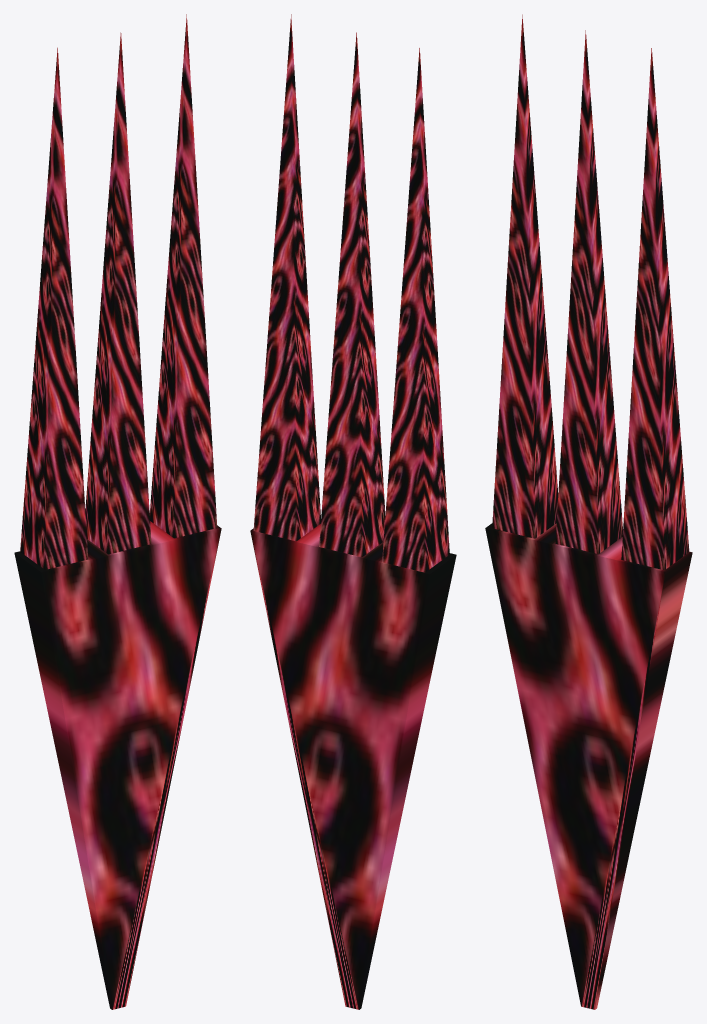
Rendered from mimita-zombclaw-v1.glb.
The picture shows the model from 3 angles, left to right: view 1: azimuth 30°, elevation 25°; view 2: azimuth 150°, elevation 25°; view 3: azimuth 330°, elevation 25°; orthographic projection.
Parts seen in each view (by area): view 1: Cube.5143; view 2: Cube.5143; view 3: Cube.5143.
Part boxes in pixels (bbox=[...]): Cube.5143: bbox=[14, 14, 221, 1009]; Cube.5143: bbox=[250, 14, 456, 1009]; Cube.5143: bbox=[485, 14, 692, 1009].
Bounding box in the file's own units: 0.6732 × 3.5 × 0.1749.
1 material, 1 textured.
